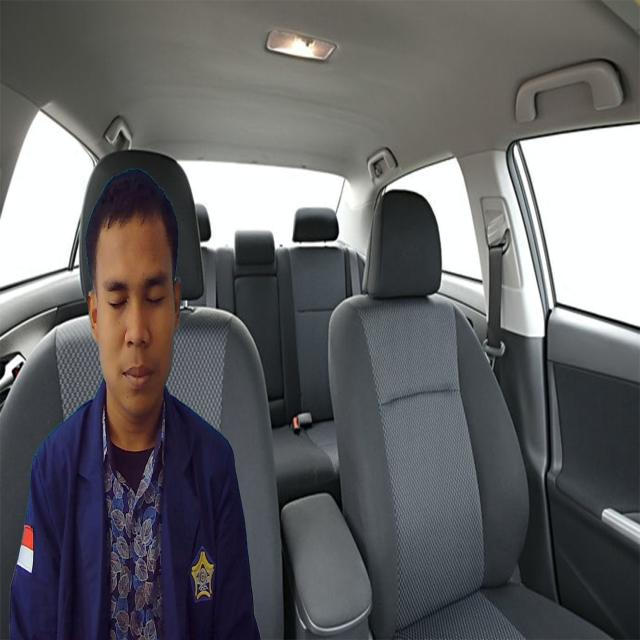no-seatbelt: (98, 220, 185, 422)
